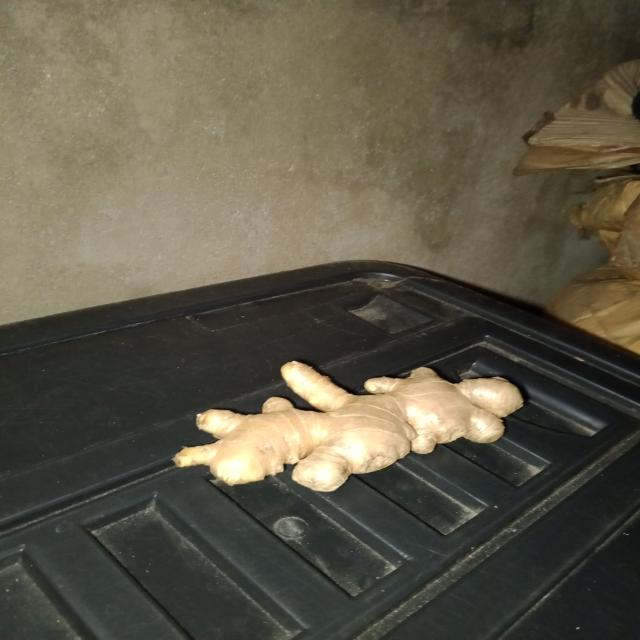ginger: (166, 356, 537, 496)
